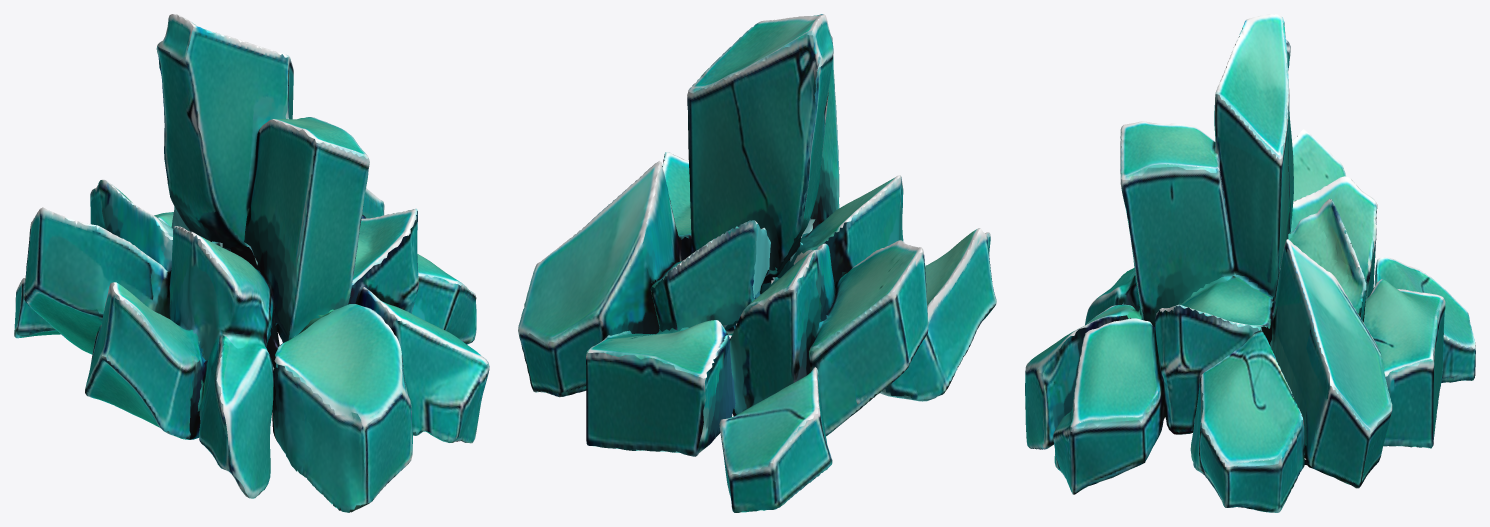
Rendered from debris-glass.glb.
3 renders of one model, left to right at view 1: azimuth 30°, elevation 25°; view 2: azimuth 150°, elevation 25°; view 3: azimuth 270°, elevation 25°, orthographic. The views are drawn at different scales.
Visible parts, largest first — view 1: tmpwuneaazb.ply; view 2: tmpwuneaazb.ply; view 3: tmpwuneaazb.ply.
Boxes of the visible parts, bbox=[...] form: tmpwuneaazb.ply: bbox=[14, 14, 489, 512]; tmpwuneaazb.ply: bbox=[518, 14, 996, 512]; tmpwuneaazb.ply: bbox=[1025, 14, 1475, 512].
Bounding box in the file's own units: 1 × 1 × 1.
Materials: 1 (1 with a texture image).
